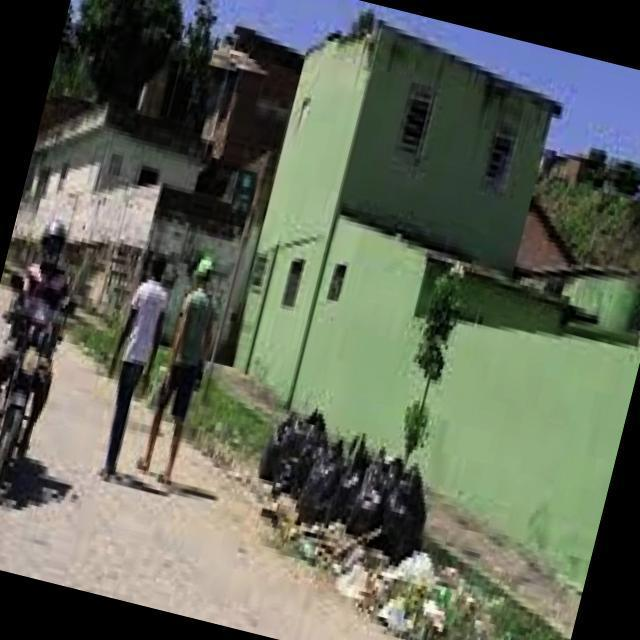garbage: (231, 375, 456, 620)
